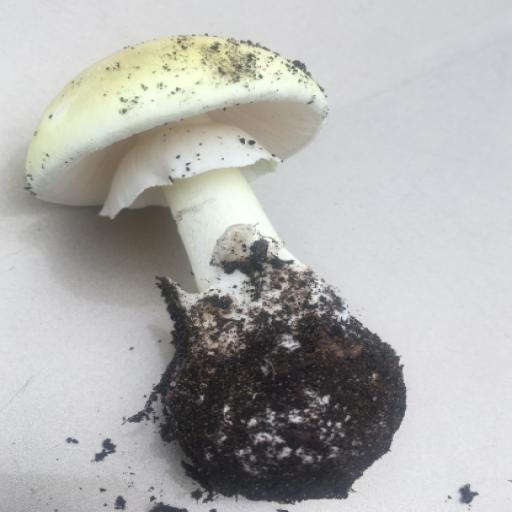mushroom: (0, 0, 432, 512)
